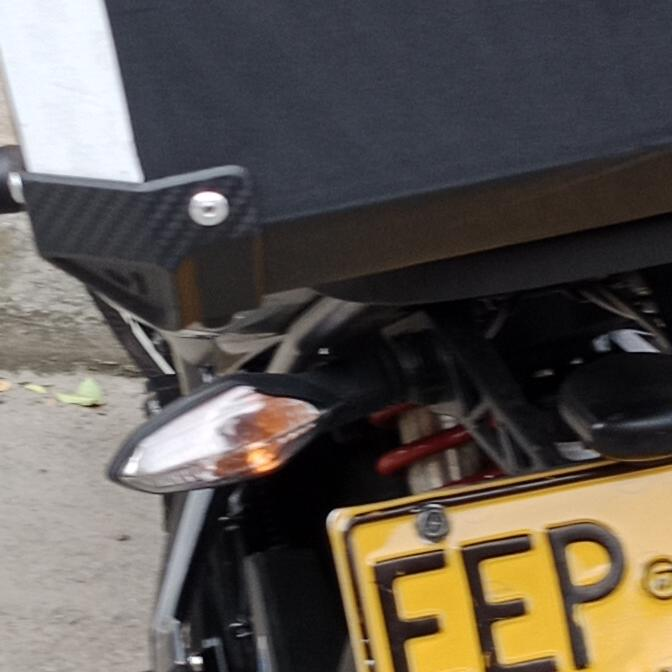plates: (326, 451, 672, 672)
